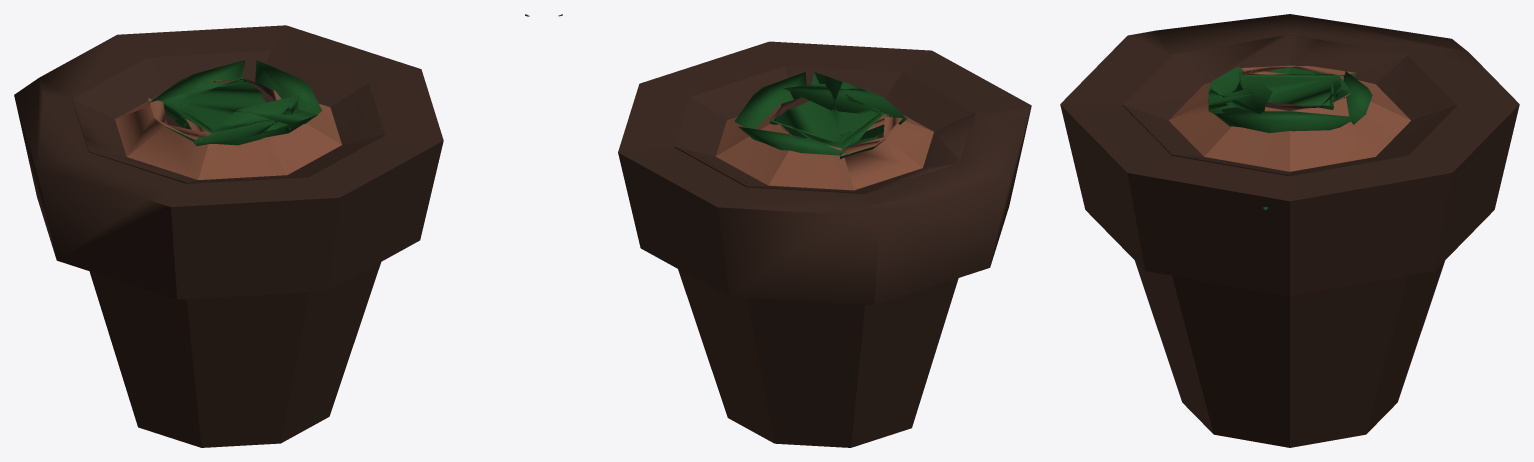
The model's file is cut_plant.glb.
The picture shows the model from 3 angles, left to right: view 1: azimuth 30°, elevation 25°; view 2: azimuth 150°, elevation 25°; view 3: azimuth 270°, elevation 25°; orthographic projection. The views are drawn at different scales.
Visible parts, largest first — view 1: PlantBottomLeaves.001; view 2: PlantBottomLeaves.001; view 3: PlantBottomLeaves.001.
Part boxes in pixels (<box>): PlantBottomLeaves.001: <box>14,14,529,447</box>; PlantBottomLeaves.001: <box>558,14,1031,447</box>; PlantBottomLeaves.001: <box>1060,14,1519,447</box>.
Size of the model in its own units: 0.6525 by 0.4262 by 0.5234.
